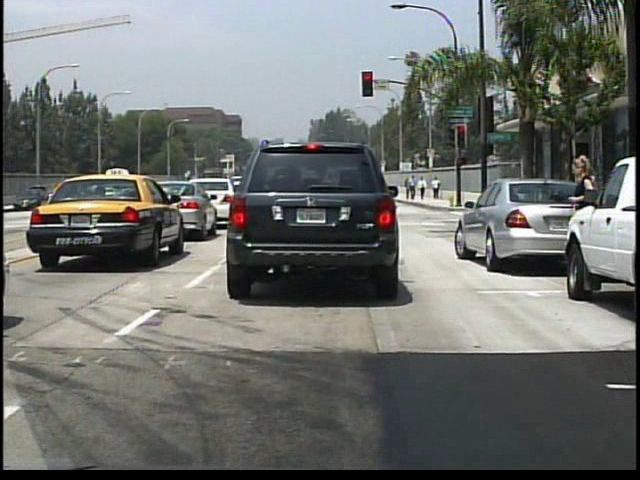person: (557, 150, 601, 278), (575, 162, 600, 231), (408, 174, 418, 200), (431, 175, 441, 201), (418, 176, 427, 202), (404, 177, 413, 199)
